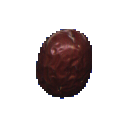gd: (18, 17, 110, 107)
